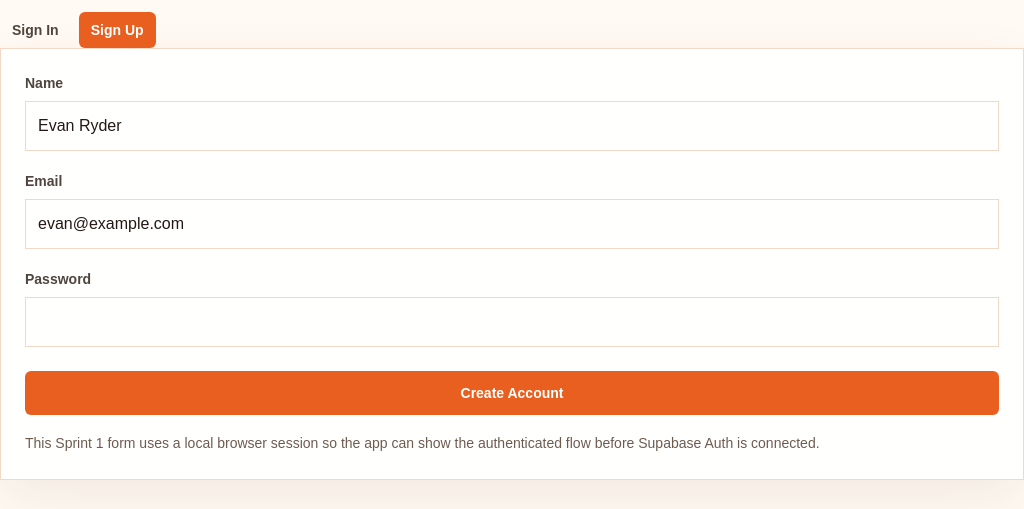
Test: local auth flow › signs up a listener, updates navigation, and routes to account
Replace the text in the field labelled "Name" with "Jordan Lee": [512, 126] box top-left (25, 101), bottom-right (999, 151)
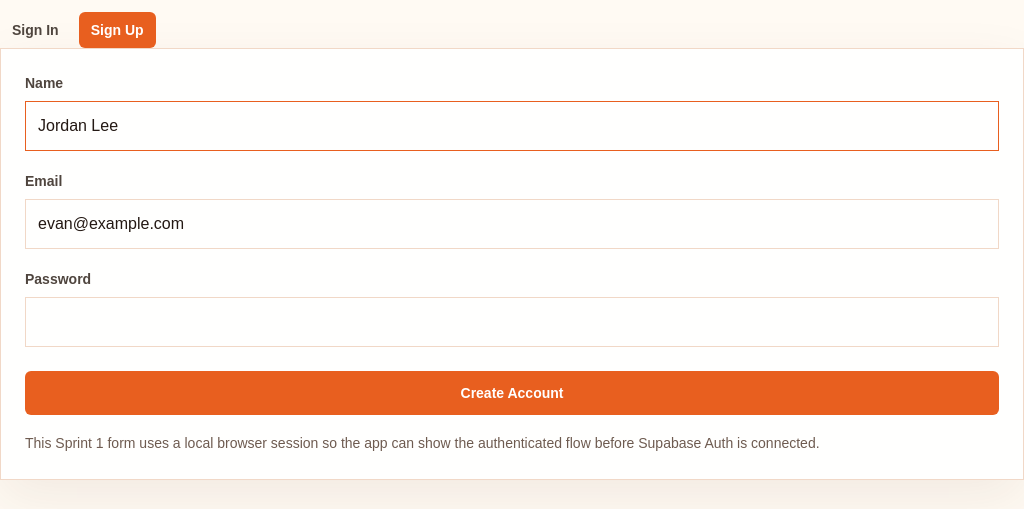
Replace the text in the field labelled "Email" with "jordan@example.com": [512, 224] box top-left (25, 199), bottom-right (999, 249)
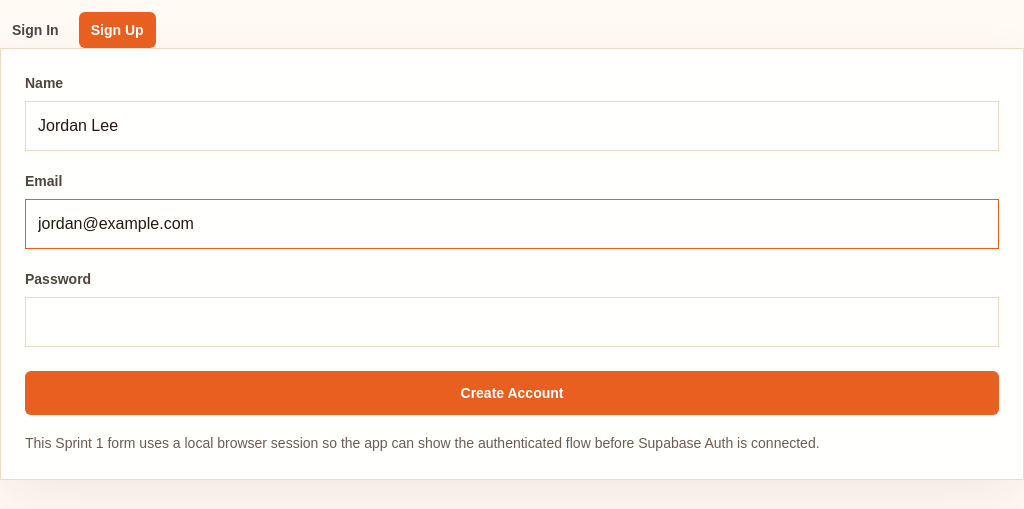
In the password field labelled "Password": [512, 322] box top-left (25, 297), bottom-right (999, 347), type "faith-community"
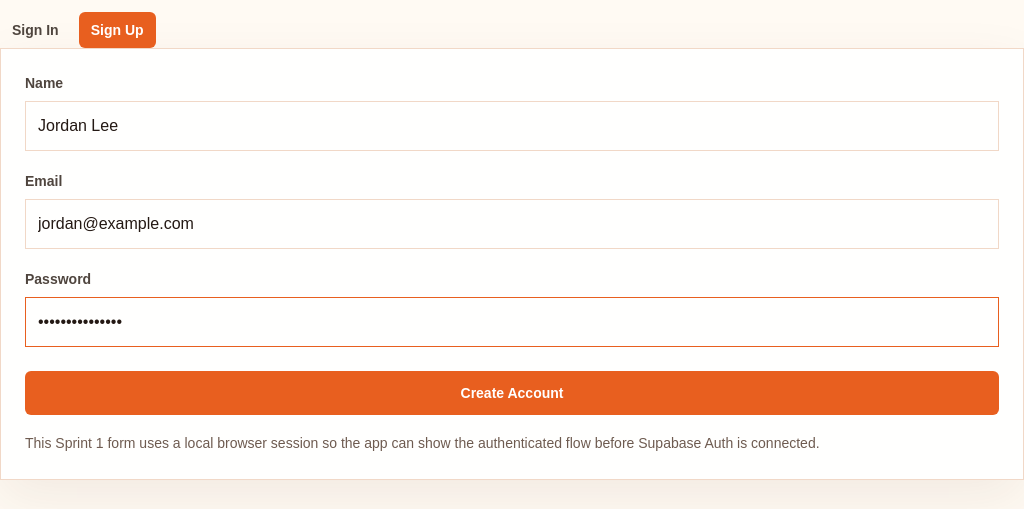
Click the button "Create Account": [512, 393] box top-left (25, 371), bottom-right (999, 415)
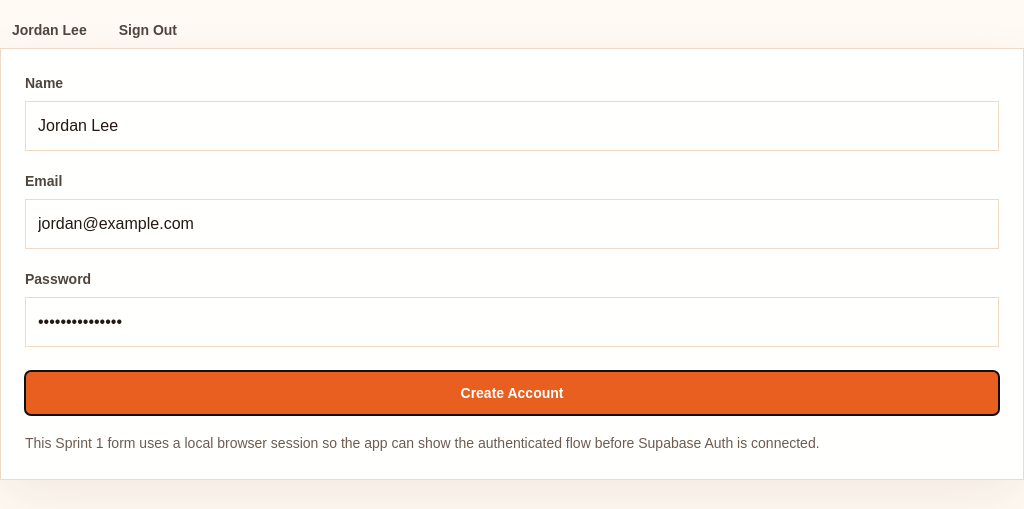
Check: the link "Jordan Lee" is shown, box top-left (12, 22), bottom-right (87, 38)
Check: the button "Sign Out" is shown, box top-left (107, 12), bottom-right (189, 48)
